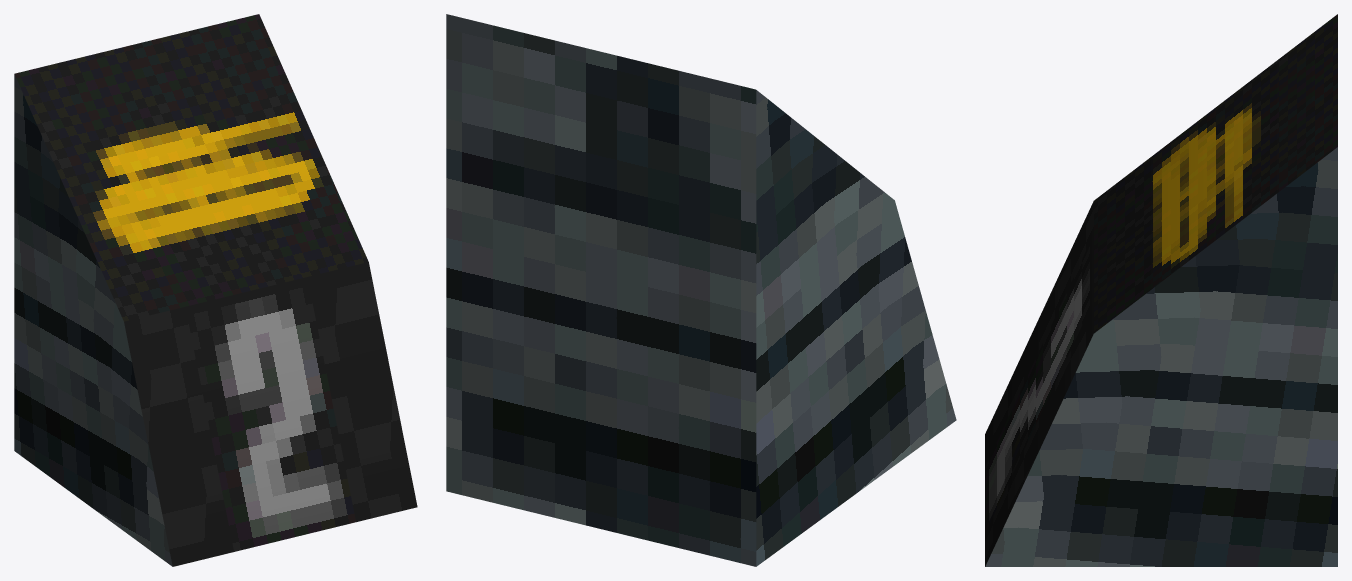
The picture shows the model from 3 angles, left to right: view 1: azimuth 30°, elevation 25°; view 2: azimuth 150°, elevation 25°; view 3: azimuth 270°, elevation 25°; orthographic projection. The views are drawn at different scales.
Visible parts, largest first — view 1: Slim_obj_027; view 2: Slim_obj_027; view 3: Slim_obj_027.
Boxes of the visible parts, x1=… form: Slim_obj_027: x1=14, y1=14, x2=417, y2=566; Slim_obj_027: x1=446, y1=14, x2=956, y2=566; Slim_obj_027: x1=985, y1=14, x2=1337, y2=566.
Size of the model in its own units: 0.5996 by 0.8828 by 0.6719.
Materials: 1 (1 with a texture image).
